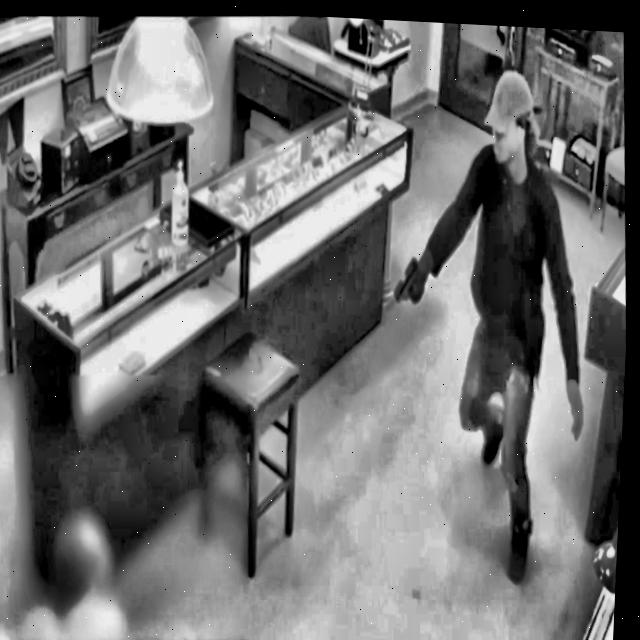robbery: (375, 63, 588, 586)
